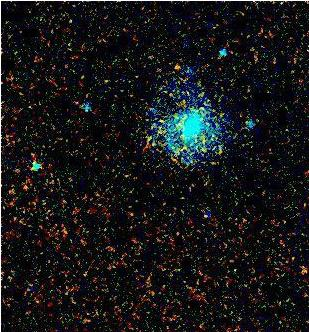star: (161, 52, 191, 82)
